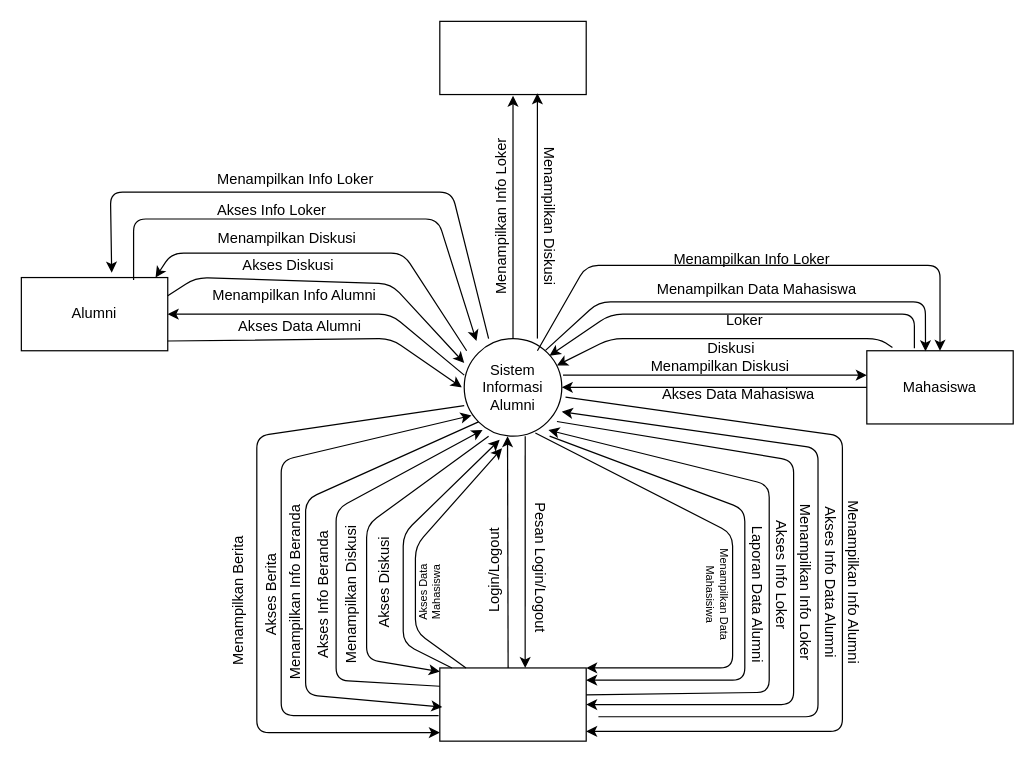
Image size: 1035x764. Some labels were removed from this diagram. The shapes that lost their labels are listed below. From the top down, each one's centre as x and y in pixels, then its label:
At point 512,57: "Tamu".
At point 512,704: "Admin".
